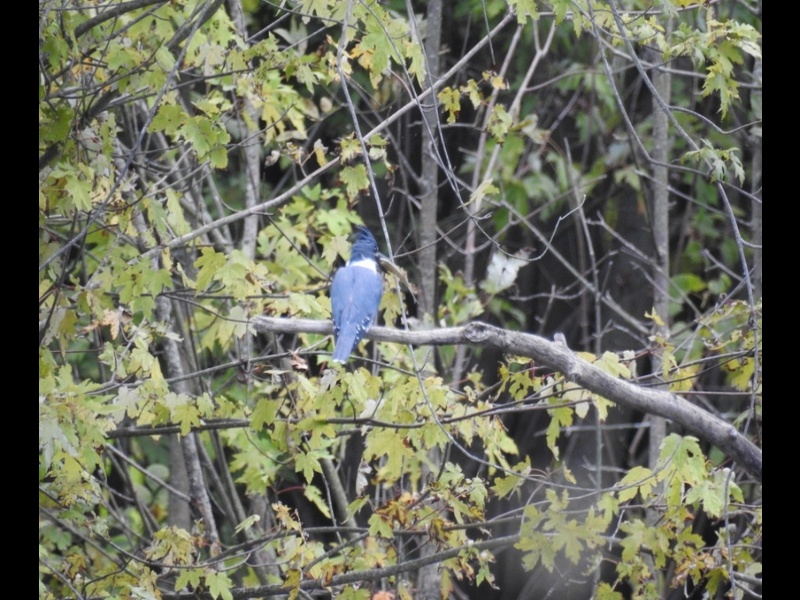kingfisher: (328, 223, 395, 365)
